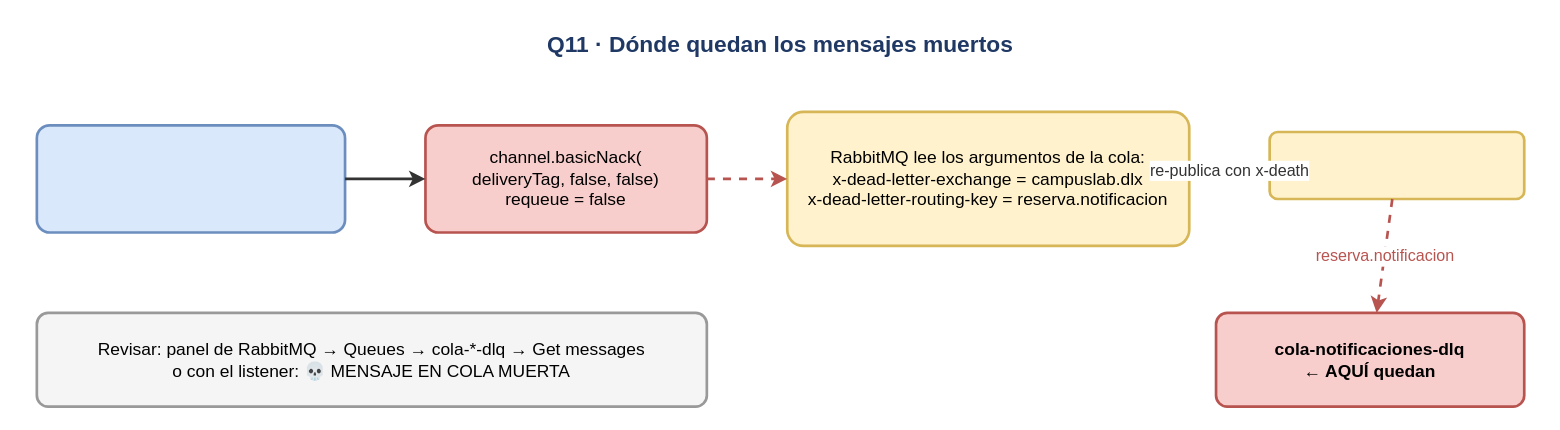
Image size: 1560x430. Some labels were removed from this diagram. The shapes that lost their labels are listed below. From the top down, each one's centre as x and y in pixels, then its label:
point 190,178: NotificacionListener detecta el error (payload inválido / FORZAR_FALLO)
point 1396,165: campuslab.dlx
